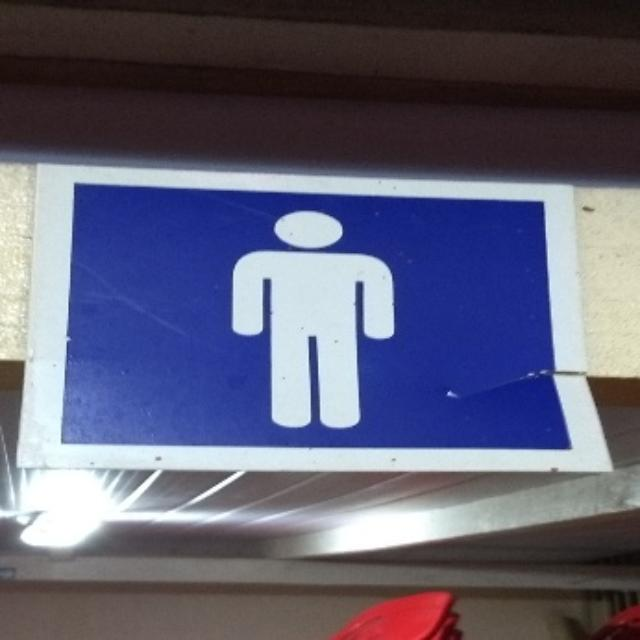mens_restroom: (18, 165, 609, 468)
